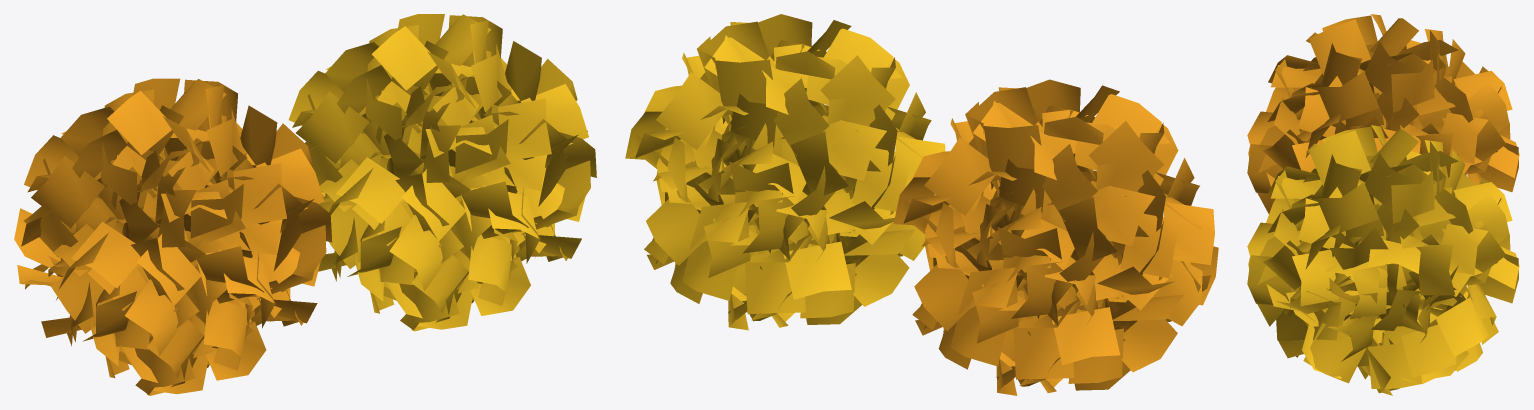
File: diwali-marigold.glb
3 views of the same model, side by side, from view 1: azimuth 30°, elevation 25°; view 2: azimuth 150°, elevation 25°; view 3: azimuth 270°, elevation 25° (orthographic). The views are drawn at different scales.
Visible parts, largest first — view 1: Marigold_Orange, Marigold_Yellow; view 2: Marigold_Orange, Marigold_Yellow; view 3: Marigold_Yellow, Marigold_Orange.
Part boxes in pixels (x1,y1,x2,y2): Marigold_Orange: (14,78,332,395); Marigold_Yellow: (288,14,596,331); Marigold_Orange: (893,79,1218,395); Marigold_Yellow: (625,14,945,330); Marigold_Yellow: (1247,125,1519,395); Marigold_Orange: (1247,14,1519,213).
Bounding box in the file's own units: 0.1411 × 0.072 × 0.0725.
